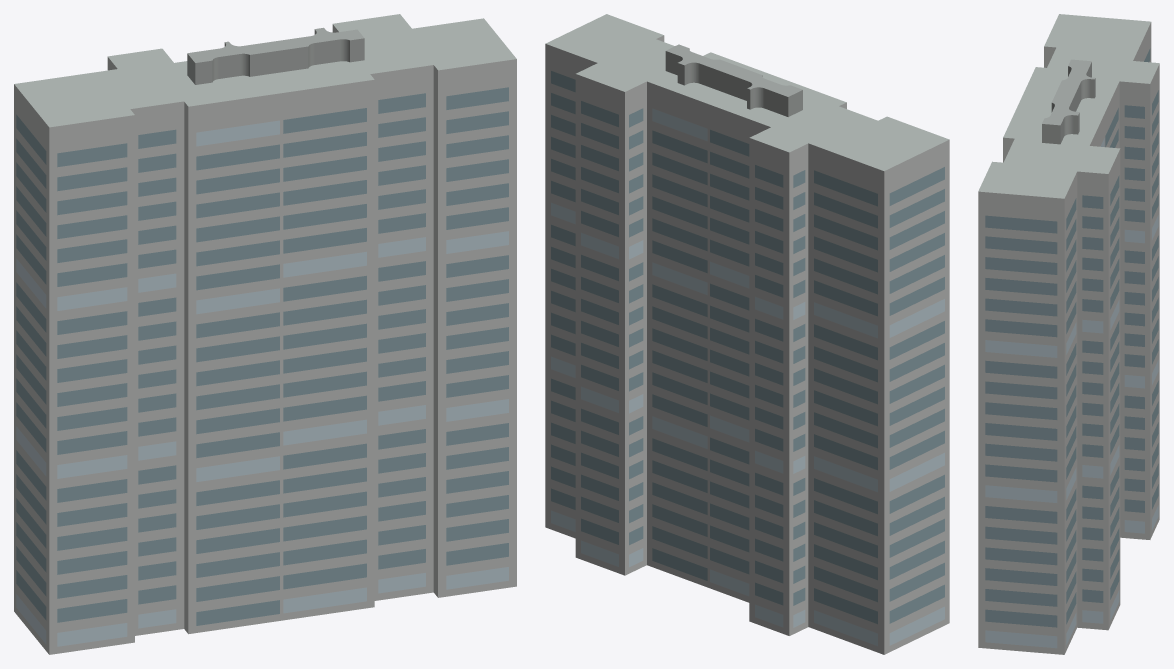
File: fallback-lake-palace-126.glb
The picture shows the model from 3 angles, left to right: view 1: azimuth 30°, elevation 25°; view 2: azimuth 150°, elevation 25°; view 3: azimuth 270°, elevation 25°; orthographic projection. The views are drawn at different scales.
Parts seen in each view (by area): view 1: fallback-lake-palace-126; view 2: fallback-lake-palace-126; view 3: fallback-lake-palace-126.
Boxes of the visible parts, box(x1,y1,x2,y2) form: fallback-lake-palace-126: box(14, 14, 516, 654); fallback-lake-palace-126: box(545, 14, 949, 654); fallback-lake-palace-126: box(978, 14, 1159, 654).
Bounding box in the file's own units: 50.03 × 60 × 20.78.
